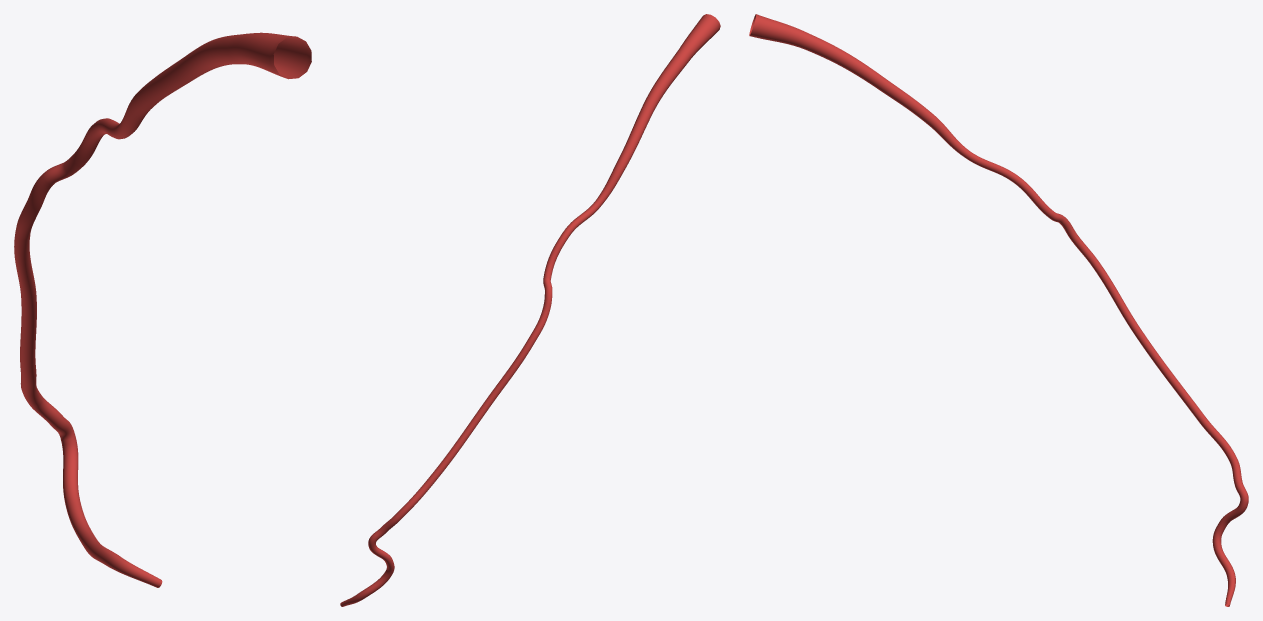
3 views of the same model, side by side, from view 1: azimuth 30°, elevation 25°; view 2: azimuth 150°, elevation 25°; view 3: azimuth 270°, elevation 25° (orthographic). The views are drawn at different scales.
Parts seen in each view (by area): view 1: 右侧下牙槽动脉; view 2: 右侧下牙槽动脉; view 3: 右侧下牙槽动脉.
Boxes of the visible parts, x1=… form: 右侧下牙槽动脉: x1=14, y1=32, x2=311, y2=587; 右侧下牙槽动脉: x1=340, y1=14, x2=720, y2=606; 右侧下牙槽动脉: x1=749, y1=14, x2=1248, y2=606.
Size of the model in its own units: 0.0355 by 0.0986 by 0.0871.
